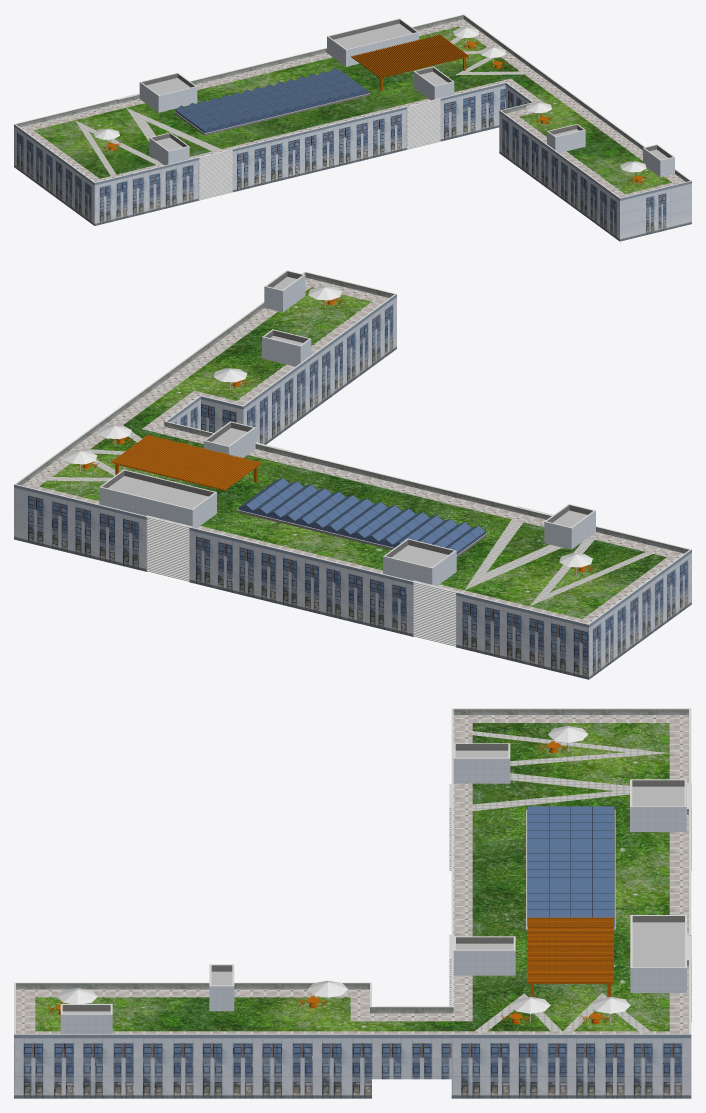
Rendered from roof.glb.
3 views of the same model, one above another, from view 1: azimuth 30°, elevation 25°; view 2: azimuth 150°, elevation 25°; view 3: azimuth 270°, elevation 25° (orthographic). The views are drawn at different scales.
Visible parts, largest first — view 1: d; view 2: d; view 3: d.
Boxes of the visible parts, bbox=[...] form: d: bbox=[14, 14, 691, 241]; d: bbox=[14, 270, 691, 679]; d: bbox=[14, 708, 691, 1098].
Size of the model in its own units: 110 by 16.01 by 96.21.
Materials: 42 (37 with a texture image).
